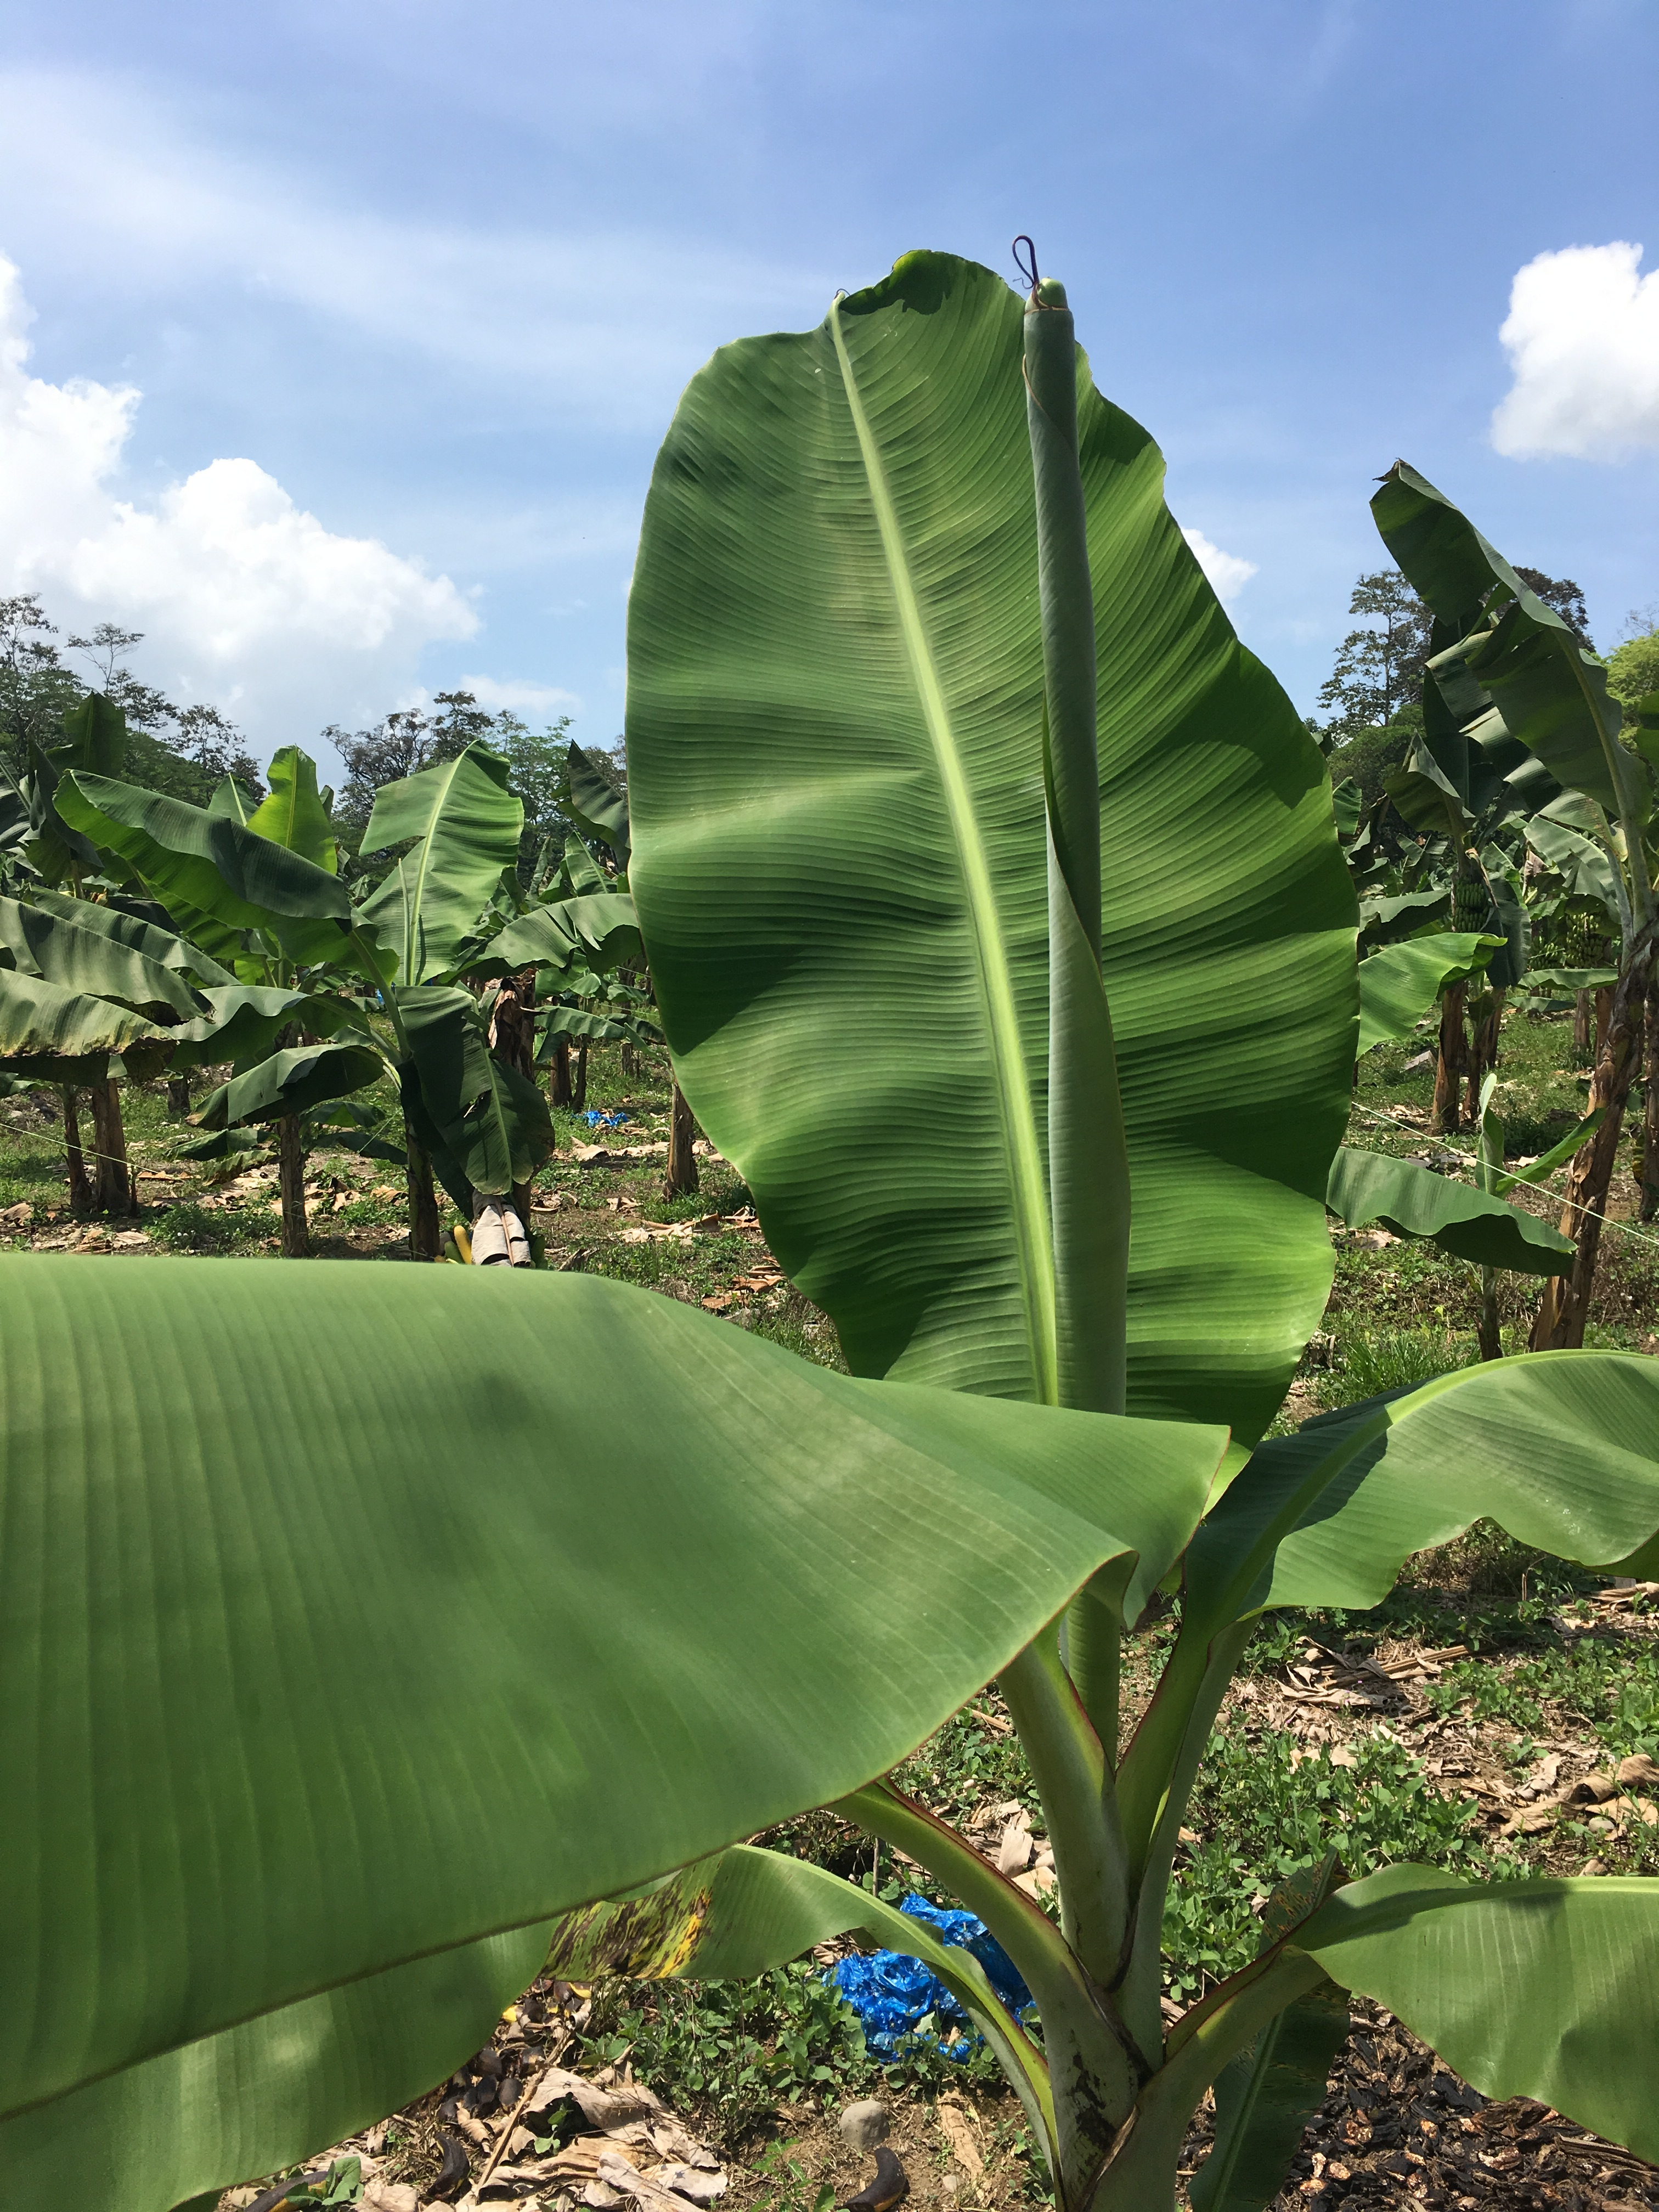candleleafs: (1012, 237, 1143, 1397)
